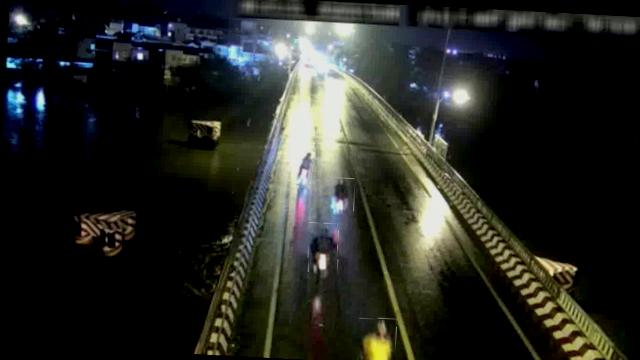Bike: (306, 222, 339, 279), (355, 317, 395, 360), (324, 178, 354, 214), (296, 150, 314, 188)
